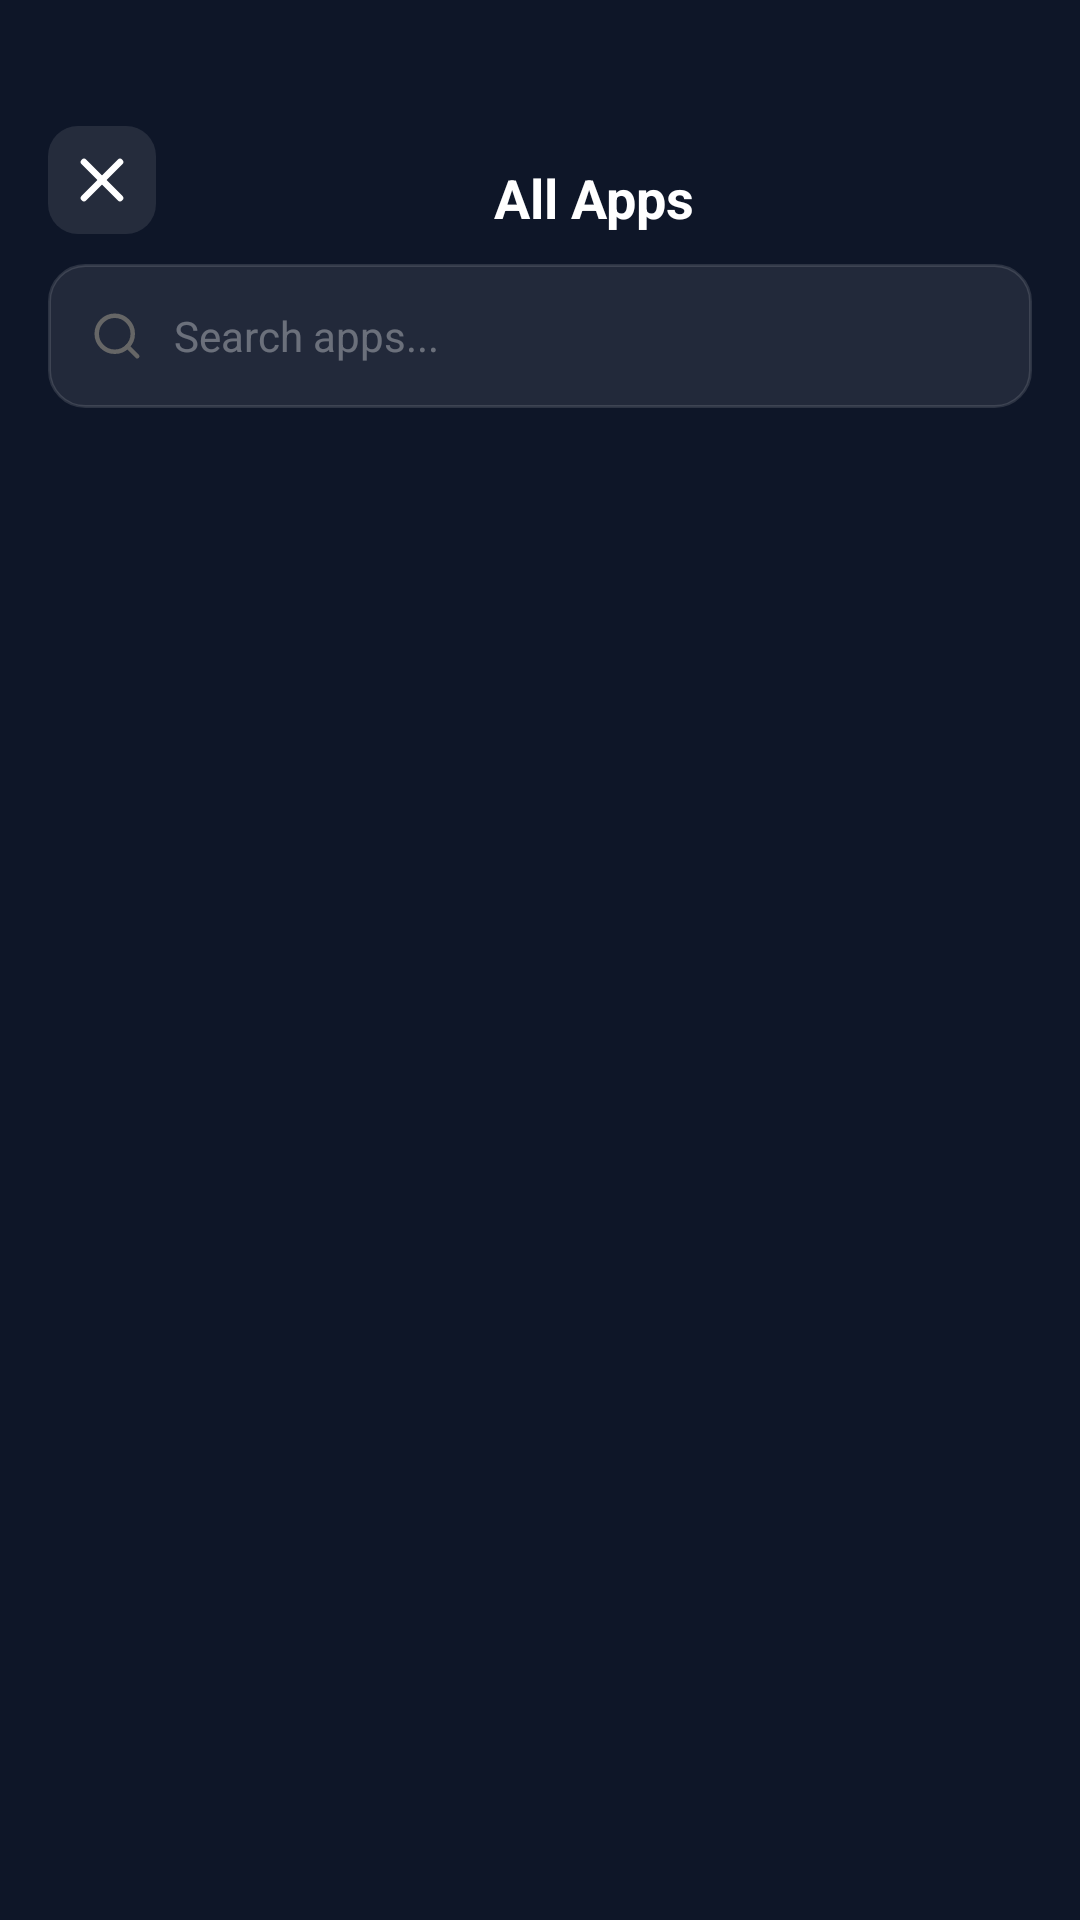

Where to tap for icons on this 1080×1920 app screen, as [x,y]:
Close: [102,180]
